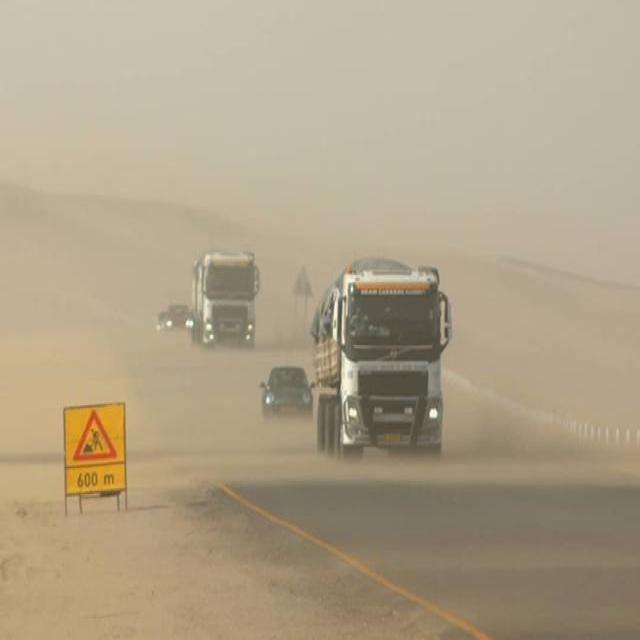Car: (254, 353, 312, 437), (155, 298, 191, 346)
Truck: (309, 240, 455, 460), (193, 226, 264, 354)
